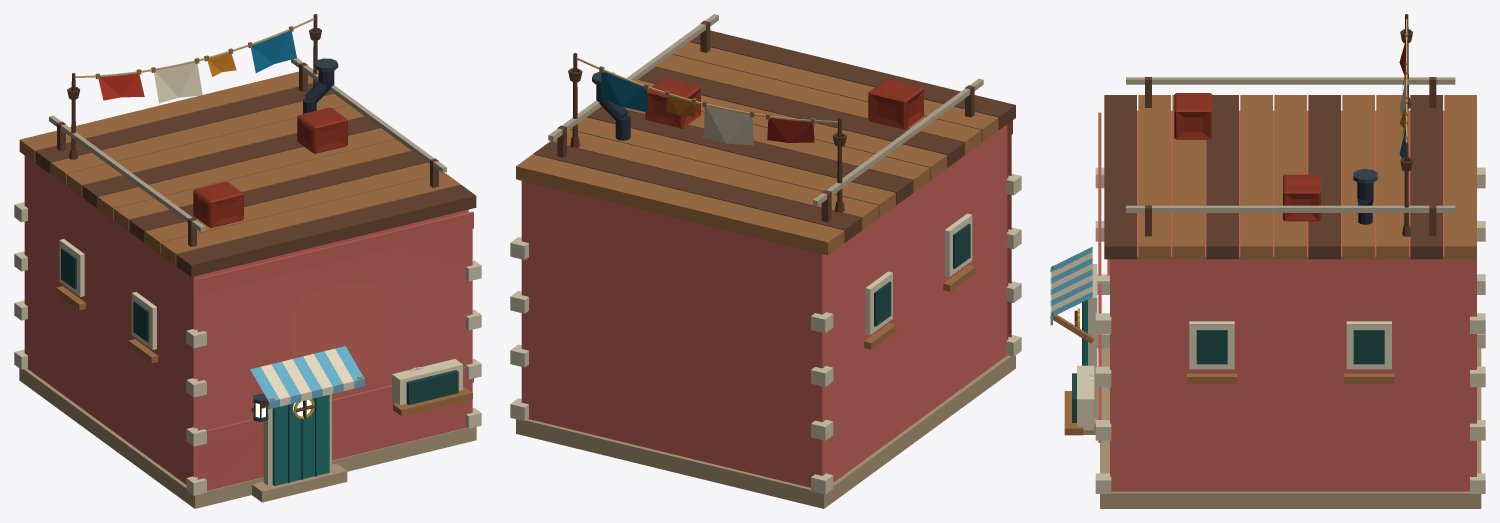
The model's file is net-loft-large-coral.glb.
3 renders of one model, left to right at view 1: azimuth 30°, elevation 25°; view 2: azimuth 150°, elevation 25°; view 3: azimuth 270°, elevation 25°, orthographic. The views are drawn at different scales.
Parts seen in each view (by area): view 1: net-loft-large-coral; view 2: net-loft-large-coral; view 3: net-loft-large-coral.
Boxes of the visible parts, x1,y1,x2,y2 form: net-loft-large-coral: [14, 14, 481, 508]; net-loft-large-coral: [510, 14, 1021, 508]; net-loft-large-coral: [1050, 14, 1485, 508].
Bounding box in the file's own units: 5.03 × 5.46 × 6.06.
